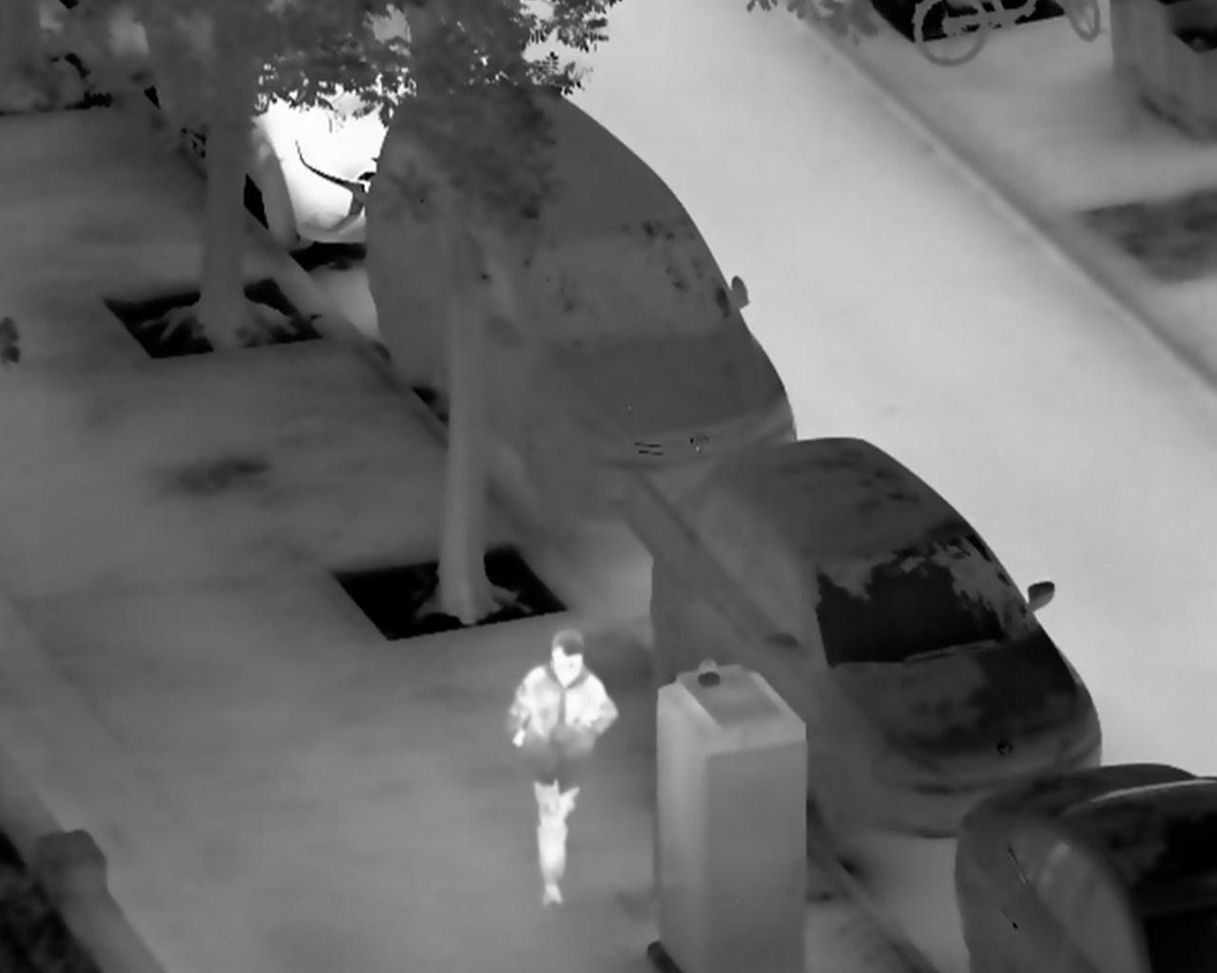person: (505, 628, 619, 910)
